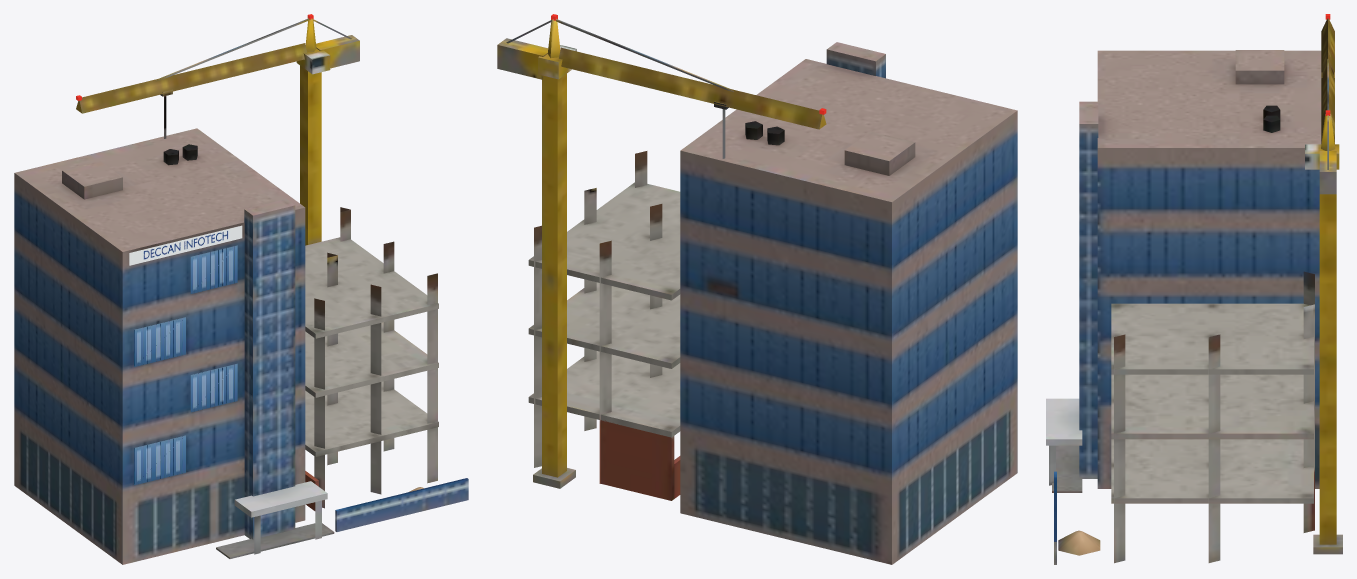
The model's file is hitec_office.glb.
3 views of the same model, side by side, from view 1: azimuth 30°, elevation 25°; view 2: azimuth 150°, elevation 25°; view 3: azimuth 270°, elevation 25° (orthographic). The views are drawn at different scales.
Visible parts, largest first — view 1: hitec_office_body, hitec_office_sheet; view 2: hitec_office_body; view 3: hitec_office_body.
Part boxes in pixels (bbox=[...]): hitec_office_body: bbox=[14, 18, 468, 564]; hitec_office_sheet: bbox=[76, 14, 313, 485]; hitec_office_body: bbox=[497, 18, 1017, 564]; hitec_office_body: bbox=[1046, 18, 1342, 564].
Bounding box in the file's own units: 72 × 81.3 × 50.1.
Materials: 2 (2 with a texture image).
